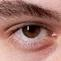eye: (22, 26, 40, 38)
